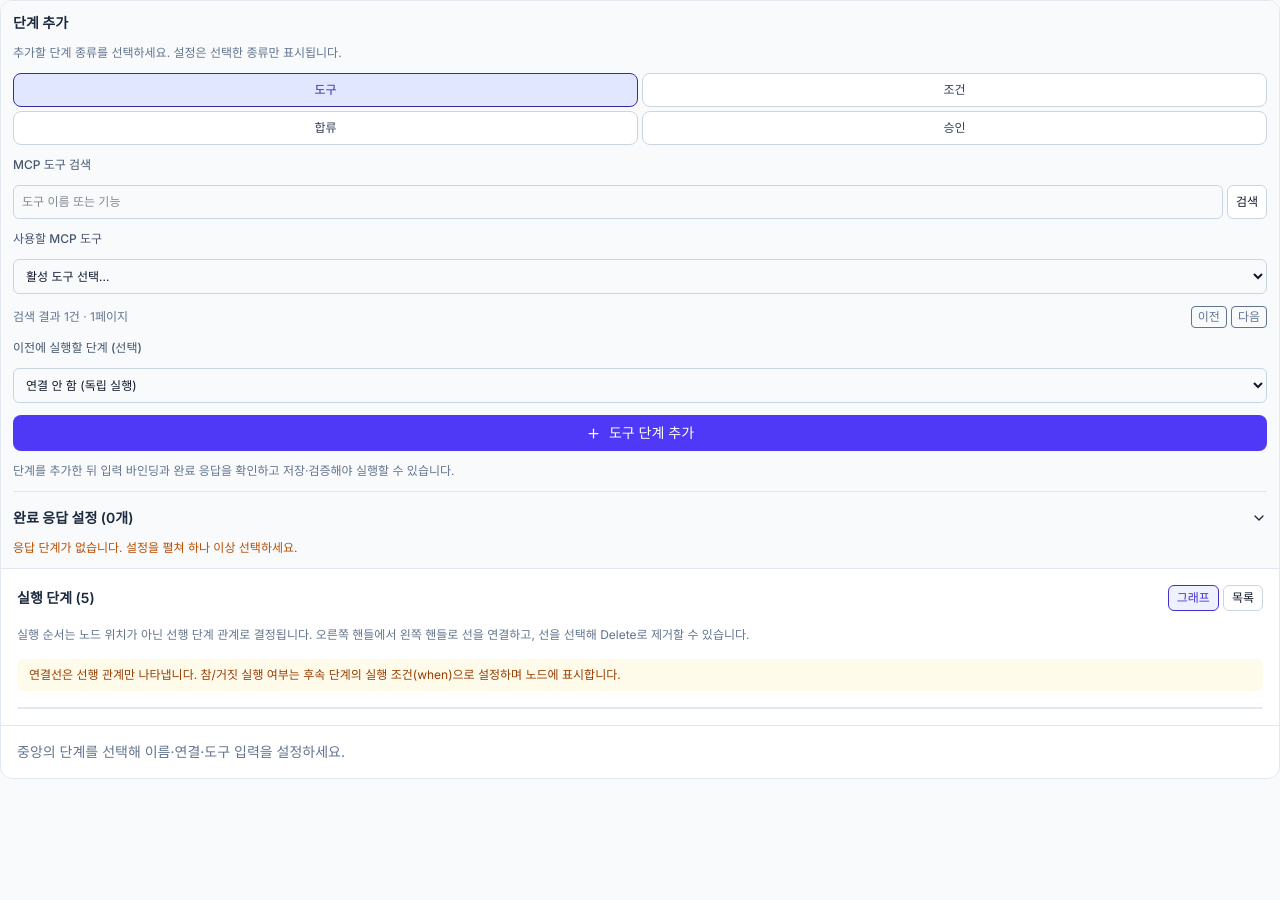
Canonical visual workflow editor › shows canonical branch nodes in graph mode without modifying the Plan
The width and height of the screenshot is (1280, 900).
Click the button "목록" at (1243, 598), box [1223,585,1263,611]
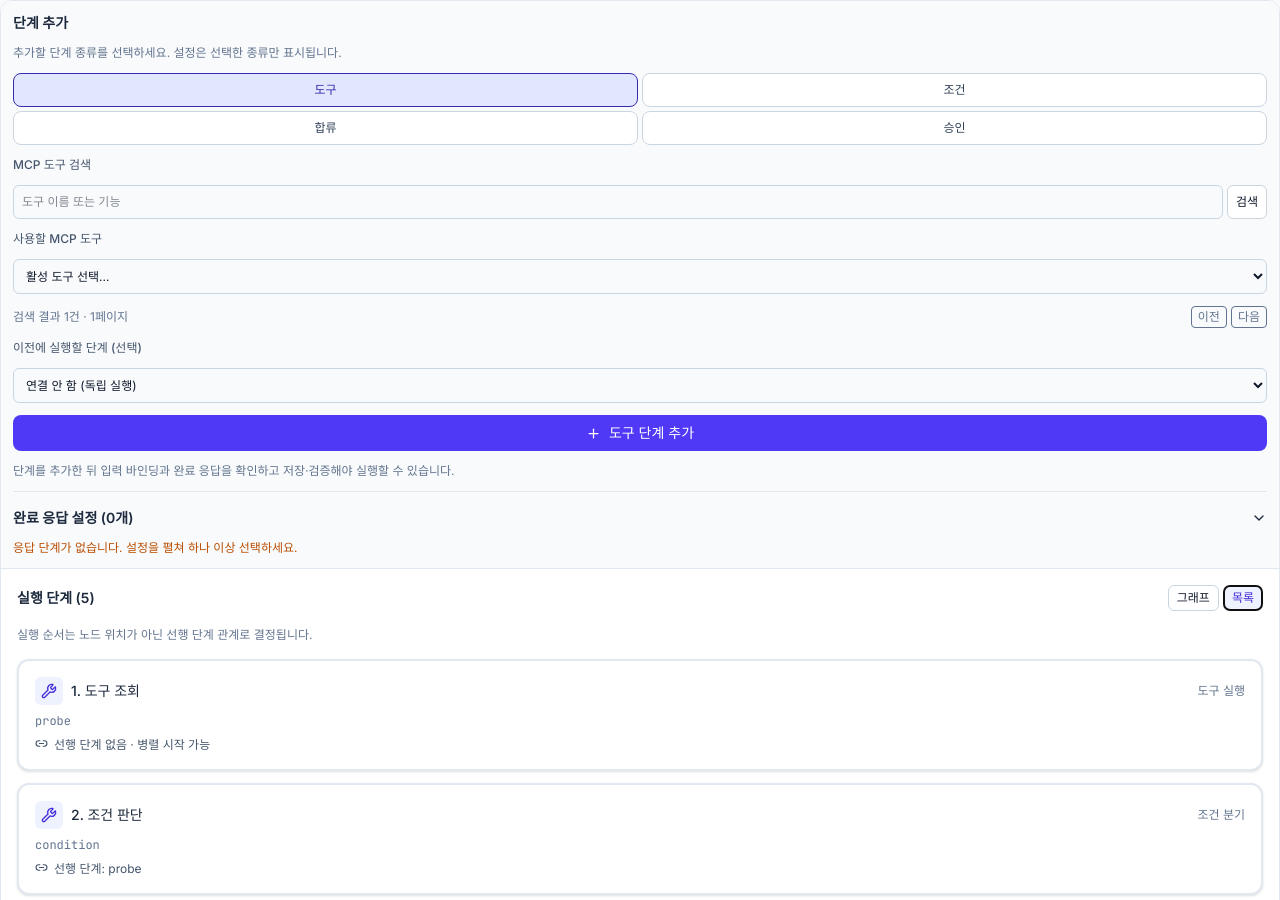
Click the button "그래프" at (1193, 598), box [1168,585,1219,611]
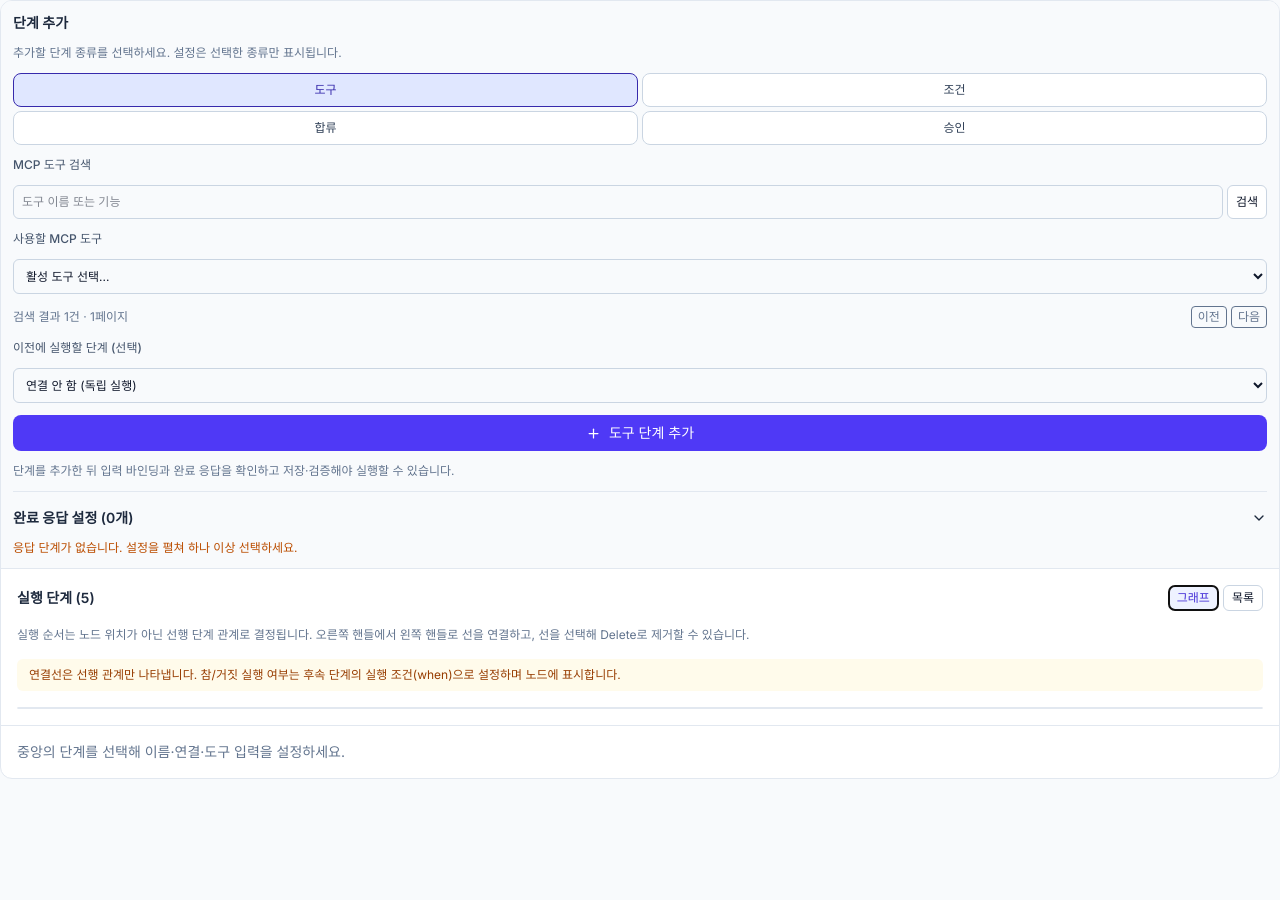
Expected: the element named "워크플로 그래프" is shown, [17,707,1263,709]
